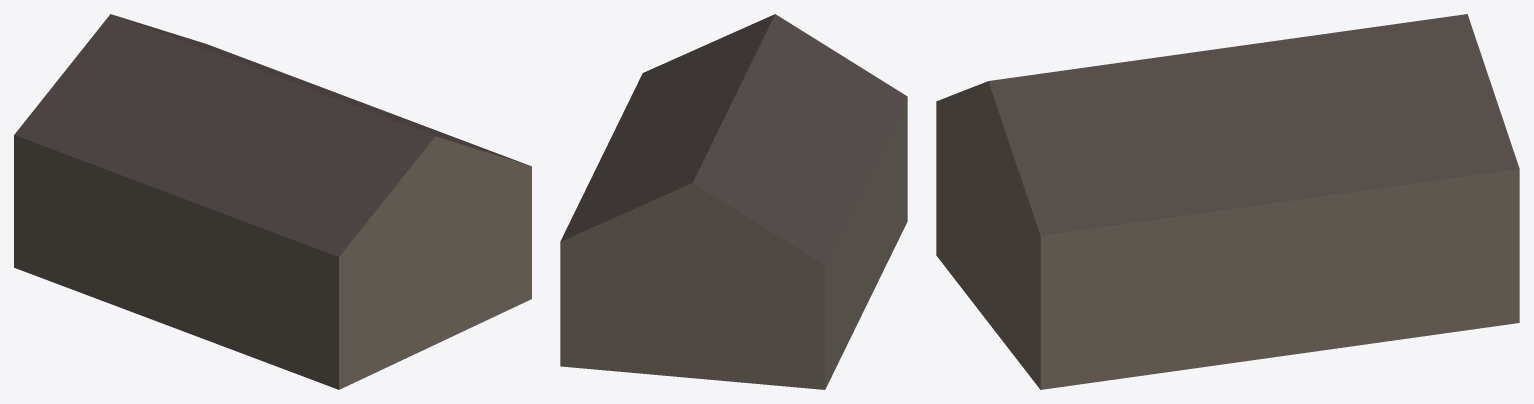
The picture shows the model from 3 angles, left to right: view 1: azimuth 30°, elevation 25°; view 2: azimuth 150°, elevation 25°; view 3: azimuth 270°, elevation 25°; orthographic projection. The views are drawn at different scales.
Parts seen in each view (by area): view 1: HP-w859467729; view 2: HP-w859467729; view 3: HP-w859467729.
Boxes of the visible parts, x1,y1,x2,y2 form: HP-w859467729: (14,14,531,389); HP-w859467729: (560,14,907,389); HP-w859467729: (936,14,1519,389).
Size of the model in its own units: 16.85 by 9.42 by 20.6.
